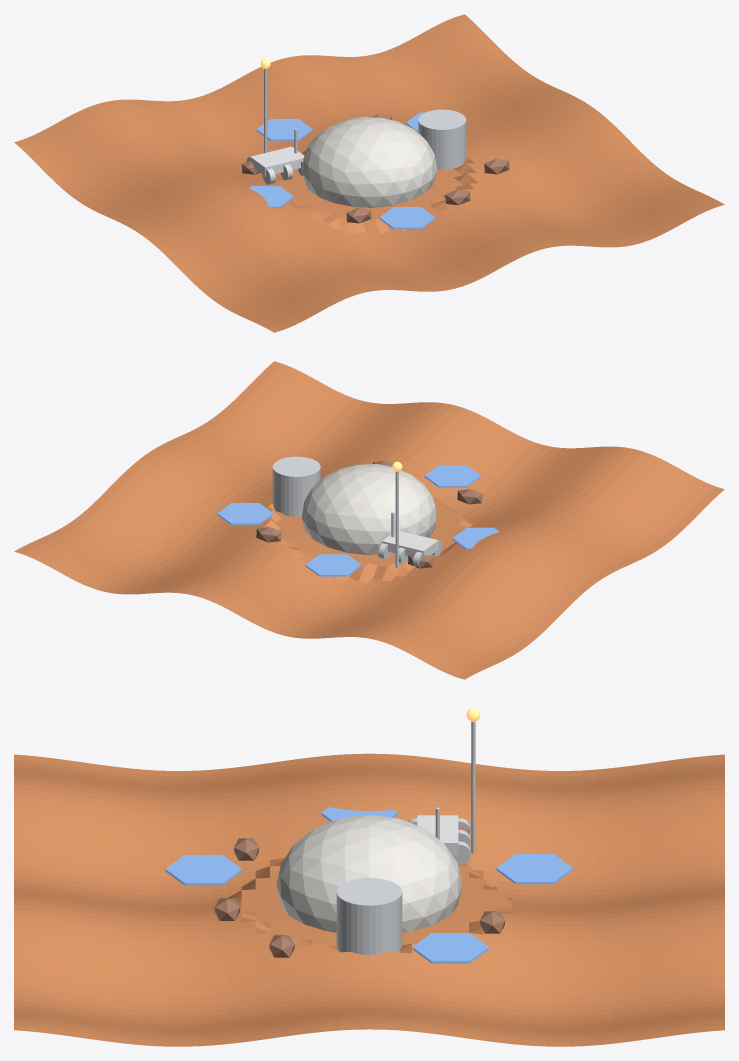
Rendered from mars_habitat.glb.
3 renders of one model, top to bottom at view 1: azimuth 30°, elevation 25°; view 2: azimuth 150°, elevation 25°; view 3: azimuth 270°, elevation 25°, orthographic. The views are drawn at different scales.
Visible parts, largest first — view 1: Mars_Regolith_Terrain, Mars_Pressurized_Habitat, ECLSS_Oxygen_Production_Module, Mars_Solar_Array_3, Mars_Science_Rover_Body, Mars_Solar_Array_1, Mars_Solar_Array_2; view 2: Mars_Regolith_Terrain, Mars_Pressurized_Habitat, ECLSS_Oxygen_Production_Module, Mars_Solar_Array_0, Mars_Solar_Array_1, Mars_Solar_Array_3, Mars_Science_Rover_Body, Mars_Solar_Array_2; view 3: Mars_Regolith_Terrain, Mars_Pressurized_Habitat, ECLSS_Oxygen_Production_Module, Mars_Solar_Array_0, Mars_Solar_Array_1, Mars_Solar_Array_3, Mars_Science_Rover_Body, Nav_Beacon_Mast, Mars_Solar_Array_2.
Part boxes in pixels (<box>): Mars_Regolith_Terrain: <box>14,14,724,332</box>; Mars_Pressurized_Habitat: <box>302,117,436,207</box>; ECLSS_Oxygen_Production_Module: <box>418,109,466,169</box>; Mars_Solar_Array_3: <box>379,207,435,229</box>; Mars_Science_Rover_Body: <box>250,146,304,176</box>; Mars_Solar_Array_1: <box>256,119,312,141</box>; Mars_Solar_Array_2: <box>249,186,293,208</box>; Mars_Regolith_Terrain: <box>14,361,724,679</box>; Mars_Pressurized_Habitat: <box>302,464,436,554</box>; ECLSS_Oxygen_Production_Module: <box>272,456,320,516</box>; Mars_Solar_Array_0: <box>217,503,273,525</box>; Mars_Solar_Array_1: <box>305,554,361,576</box>; Mars_Solar_Array_3: <box>424,465,480,487</box>; Mars_Science_Rover_Body: <box>382,531,438,556</box>; Mars_Solar_Array_2: <box>452,527,499,549</box>; Mars_Regolith_Terrain: <box>14,753,724,1046</box>; Mars_Pressurized_Habitat: <box>276,815,462,932</box>; ECLSS_Oxygen_Production_Module: <box>336,878,402,955</box>; Mars_Solar_Array_0: <box>412,933,488,963</box>; Mars_Solar_Array_1: <box>496,854,572,884</box>; Mars_Solar_Array_3: <box>165,855,241,885</box>; Mars_Science_Rover_Body: <box>417,815,458,855</box>; Nav_Beacon_Mast: <box>471,721,475,853</box>; Mars_Solar_Array_2: <box>321,807,397,821</box>.
Bounding box in the file's own units: 26 × 7.73 × 26.
